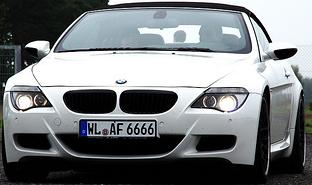front_view: (5, 74, 259, 166)
headlight: (187, 82, 251, 118)
